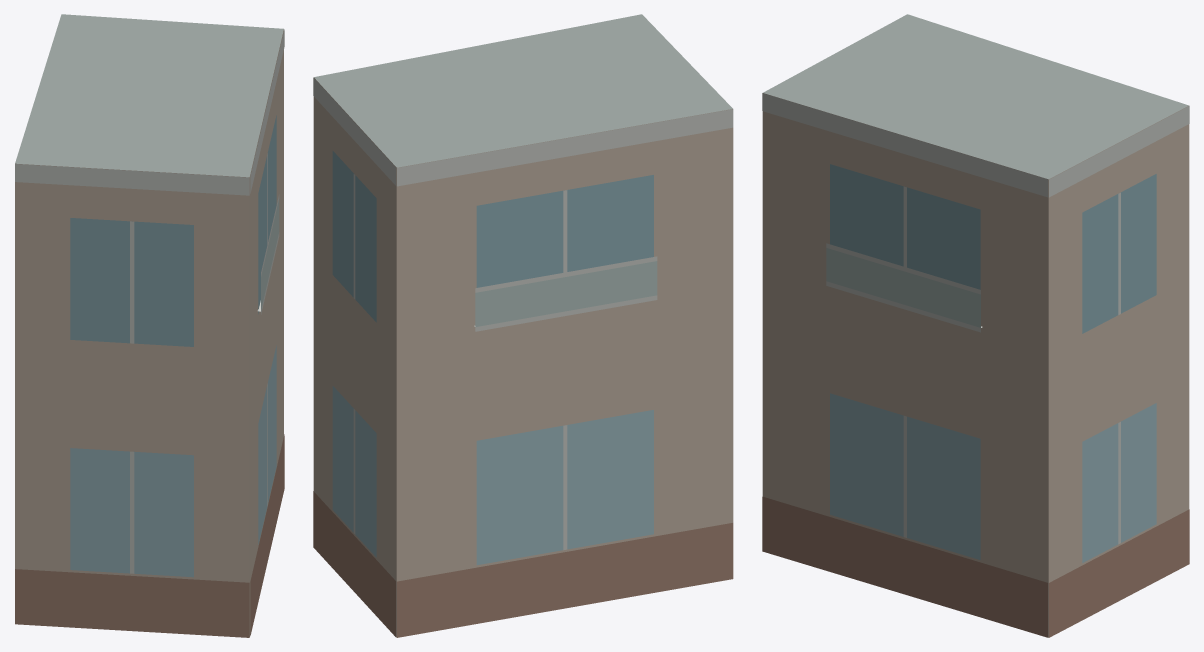
Rendered from survey-upis-32634640.glb.
The picture shows the model from 3 angles, left to right: view 1: azimuth 30°, elevation 25°; view 2: azimuth 150°, elevation 25°; view 3: azimuth 270°, elevation 25°; orthographic projection. The views are drawn at different scales.
Parts seen in each view (by area): view 1: survey-upis-32634640.tmp; view 2: survey-upis-32634640.tmp; view 3: survey-upis-32634640.tmp.
Boxes of the visible parts, box(x1,y1,x2,y2) form: survey-upis-32634640.tmp: box(15, 14, 284, 637); survey-upis-32634640.tmp: box(313, 14, 733, 637); survey-upis-32634640.tmp: box(762, 14, 1189, 637).
Size of the model in its own units: 4.72 by 6.1 by 5.15.
